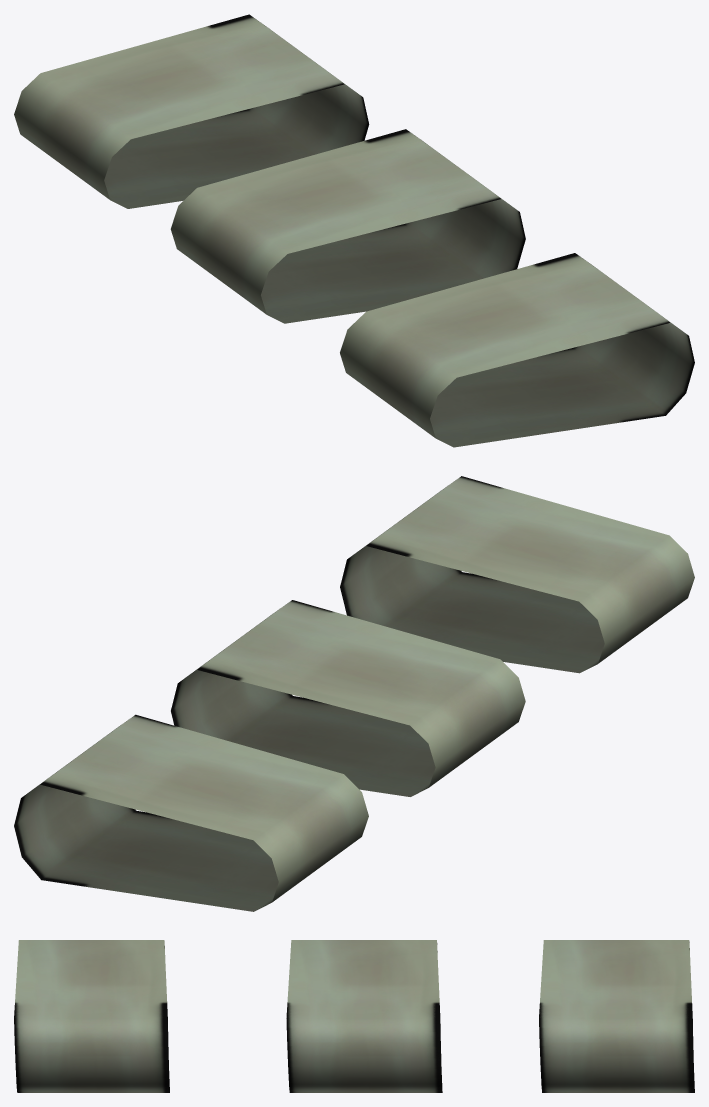
File: workout treads.obj
3 renders of one model, top to bottom at view 1: azimuth 30°, elevation 25°; view 2: azimuth 150°, elevation 25°; view 3: azimuth 270°, elevation 25°, orthographic. The views are drawn at different scales.
Visible parts, largest first — view 1: polySurface1451 polySurface1499, polySurface1503 polySurface1451, polySurface1451 polySurface1507, polySurface1451 polySurface1588, polySurface1451 polySurface1589, polySurface1451 polySurface1587; view 2: polySurface1451 polySurface1507, polySurface1451 polySurface1499, polySurface1503 polySurface1451, polySurface1451 polySurface1588, polySurface1451 polySurface1589, polySurface1451 polySurface1587; view 3: polySurface1503 polySurface1451, polySurface1451 polySurface1499, polySurface1451 polySurface1507, polySurface1451 polySurface1588, polySurface1451 polySurface1587, polySurface1451 polySurface1589.
Boxes of the visible parts, x1,y1,x2,y2 form: polySurface1451 polySurface1499: (340, 253, 694, 447); polySurface1503 polySurface1451: (170, 129, 525, 323); polySurface1451 polySurface1507: (14, 14, 368, 208); polySurface1451 polySurface1588: (171, 137, 524, 323); polySurface1451 polySurface1589: (15, 25, 368, 208); polySurface1451 polySurface1587: (340, 261, 692, 447); polySurface1451 polySurface1507: (14, 714, 368, 911); polySurface1451 polySurface1499: (340, 476, 694, 673); polySurface1503 polySurface1451: (171, 600, 525, 796); polySurface1451 polySurface1588: (171, 600, 524, 792); polySurface1451 polySurface1589: (14, 715, 368, 908); polySurface1451 polySurface1587: (341, 477, 694, 669); polySurface1503 polySurface1451: (286, 940, 442, 1092); polySurface1451 polySurface1499: (14, 940, 169, 1092); polySurface1451 polySurface1507: (539, 940, 694, 1092); polySurface1451 polySurface1588: (287, 940, 441, 1092); polySurface1451 polySurface1587: (14, 940, 169, 1092); polySurface1451 polySurface1589: (539, 940, 694, 1092).
Bounding box in the file's own units: 1.61 × 0.5492 × 4.48.
Materials: 1 (1 with a texture image).
